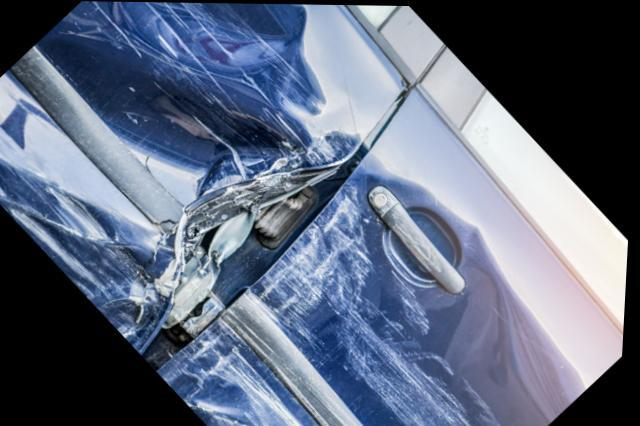dent: (0, 1, 368, 345), (169, 168, 586, 426)
no part: (142, 166, 352, 371)
